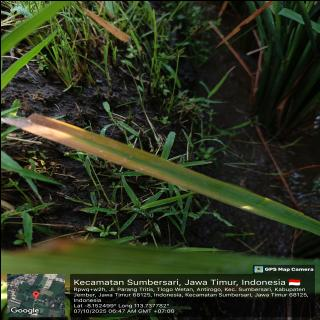Hawar-Daun: (0, 113, 176, 183)
